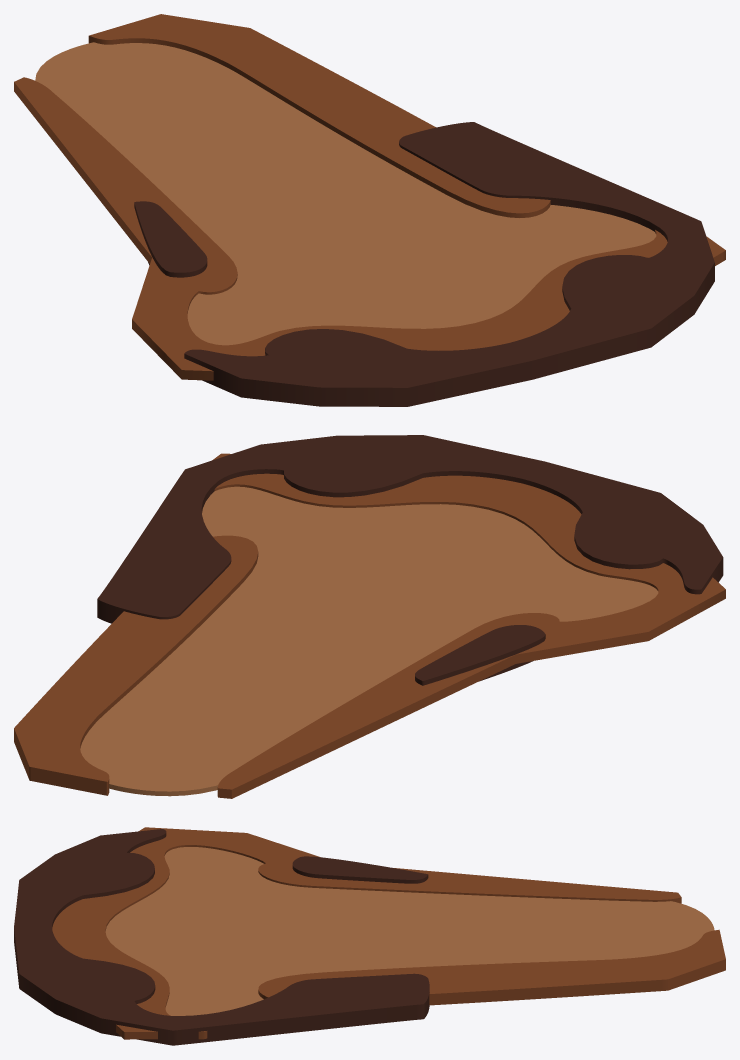
The model's file is emoji_u1f443_1f3fe.glb.
3 views of the same model, one above another, from view 1: azimuth 30°, elevation 25°; view 2: azimuth 150°, elevation 25°; view 3: azimuth 270°, elevation 25° (orthographic). The views are drawn at different scales.
Parts seen in each view (by area): view 1: emoji_u1f443_1f3fe; view 2: emoji_u1f443_1f3fe; view 3: emoji_u1f443_1f3fe.
Boxes of the visible parts, x1,y1,x2,y2 form: emoji_u1f443_1f3fe: (14, 14, 725, 406); emoji_u1f443_1f3fe: (14, 435, 725, 798); emoji_u1f443_1f3fe: (14, 827, 725, 1045).
Size of the model in its own units: 0.0236 by 0.0008 by 0.0343.
